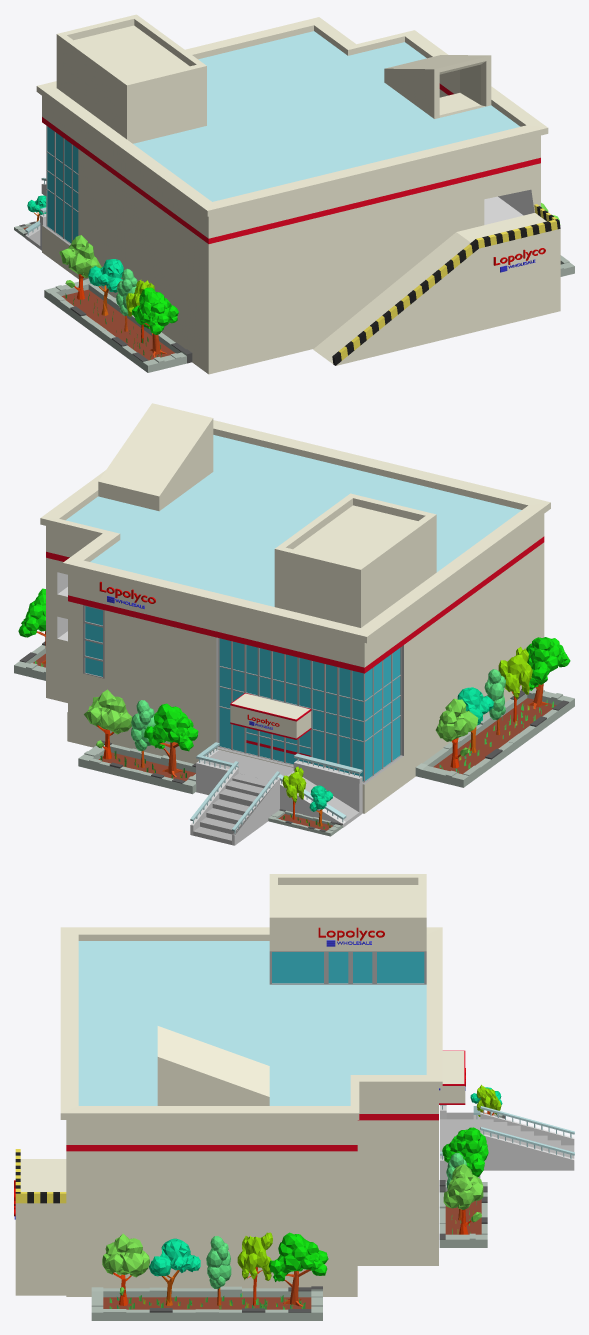
The model's file is Bigmart4.fbx.
3 renders of one model, top to bottom at view 1: azimuth 30°, elevation 25°; view 2: azimuth 150°, elevation 25°; view 3: azimuth 270°, elevation 25°, orthographic. The views are drawn at different scales.
Visible parts, largest first — view 1: Cube.001, Cube.005, wood_box.002, Cube.002, Cube.003, _6_tree.002, Cube.009, _4_tree.002, Cube.004, _3_tree.002, _7_tree.002; view 2: Cube.001, Cube.005, Cube.003, Cube.004, wood_box.002, Cube, Cube.007, Cube.002, wood_box, Cube.006, _6_tree, _6_tree.002 (+10 smaller); view 3: Cube.001, Cube.005, wood_box.003, Cube.003, Cube, Cube.002, wood_box, Cube.007, _6_tree.004, _4_tree.004, _4_tree, _6_tree (+4 smaller).
Part boxes in pixels (x1,y1,x2,y2): Cube.001: [36, 14, 560, 374]; Cube.005: [133, 31, 520, 201]; wood_box.002: [44, 278, 192, 372]; Cube.002: [42, 83, 540, 243]; Cube.003: [47, 126, 78, 243]; _6_tree.002: [132, 287, 178, 334]; Cube.009: [484, 189, 534, 224]; _4_tree.002: [59, 235, 101, 287]; Cube.004: [42, 125, 78, 245]; _3_tree.002: [88, 259, 123, 292]; _7_tree.002: [116, 268, 137, 315]; Cube.001: [40, 403, 550, 813]; Cube.005: [66, 435, 521, 606]; Cube.003: [85, 606, 400, 781]; Cube.004: [83, 605, 403, 784]; wood_box.002: [415, 688, 574, 787]; Cube: [190, 749, 362, 845]; Cube.007: [193, 750, 358, 844]; Cube.002: [46, 536, 544, 756]; wood_box: [78, 740, 196, 794]; Cube.006: [190, 742, 362, 833]; _6_tree: [144, 703, 198, 751]; _6_tree.002: [526, 637, 570, 690]; Cube.001: [15, 874, 465, 1296]; Cube.005: [78, 941, 426, 1105]; wood_box.003: [91, 1286, 322, 1320]; Cube.003: [269, 951, 426, 984]; Cube: [440, 1105, 574, 1181]; Cube.002: [66, 1050, 465, 1151]; wood_box: [439, 1180, 487, 1247]; Cube.007: [440, 1112, 574, 1158]; _6_tree.004: [269, 1232, 328, 1281]; _4_tree.004: [102, 1233, 149, 1295]; _4_tree: [443, 1164, 483, 1222]; _6_tree: [442, 1127, 488, 1177].
Bounding box in the file's own units: 7593 × 3793 × 7813.
